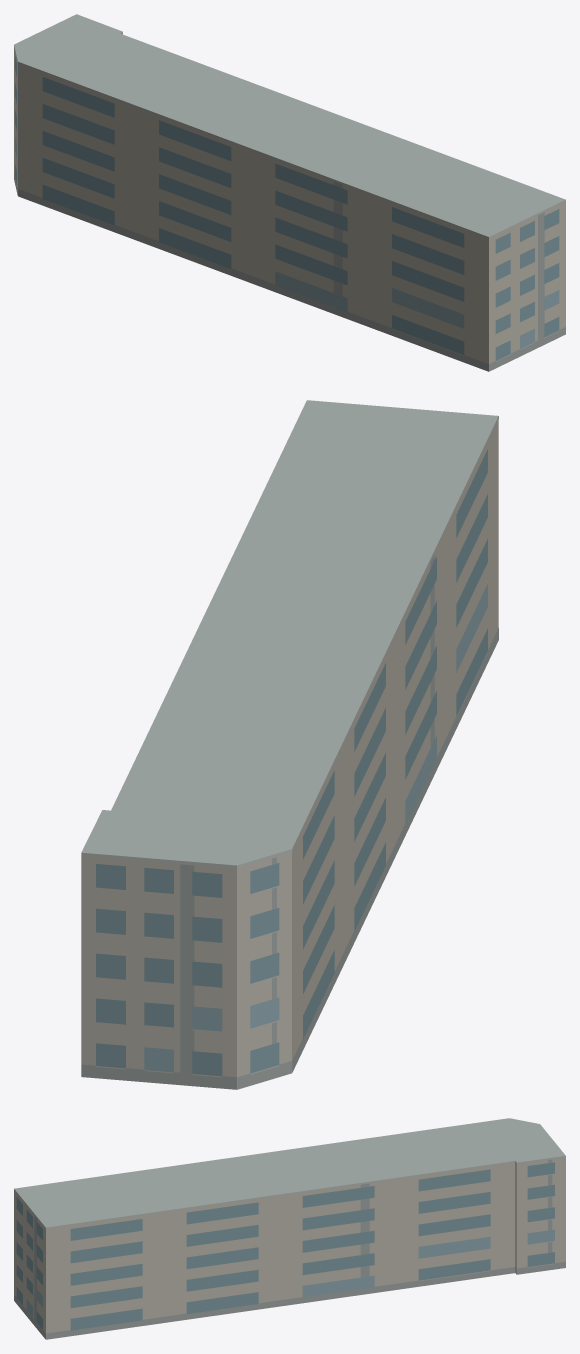
File: survey-upis-32570215.glb
3 renders of one model, top to bottom at view 1: azimuth 30°, elevation 25°; view 2: azimuth 150°, elevation 25°; view 3: azimuth 270°, elevation 25°, orthographic. The views are drawn at different scales.
Visible parts, largest first — view 1: survey-upis-32570215.tmp; view 2: survey-upis-32570215.tmp; view 3: survey-upis-32570215.tmp.
Boxes of the visible parts, left/top/right/bottom form: survey-upis-32570215.tmp: left=14, top=14, right=565, bottom=371; survey-upis-32570215.tmp: left=81, top=400, right=498, bottom=1089; survey-upis-32570215.tmp: left=14, top=1118, right=565, bottom=1339.
Size of the model in its own units: 31.94 by 15.25 by 68.02.
